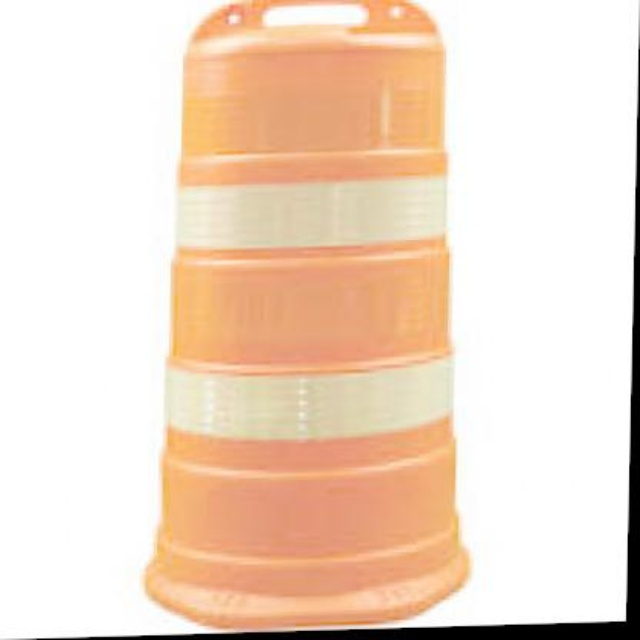obstacle: (155, 18, 470, 636)
